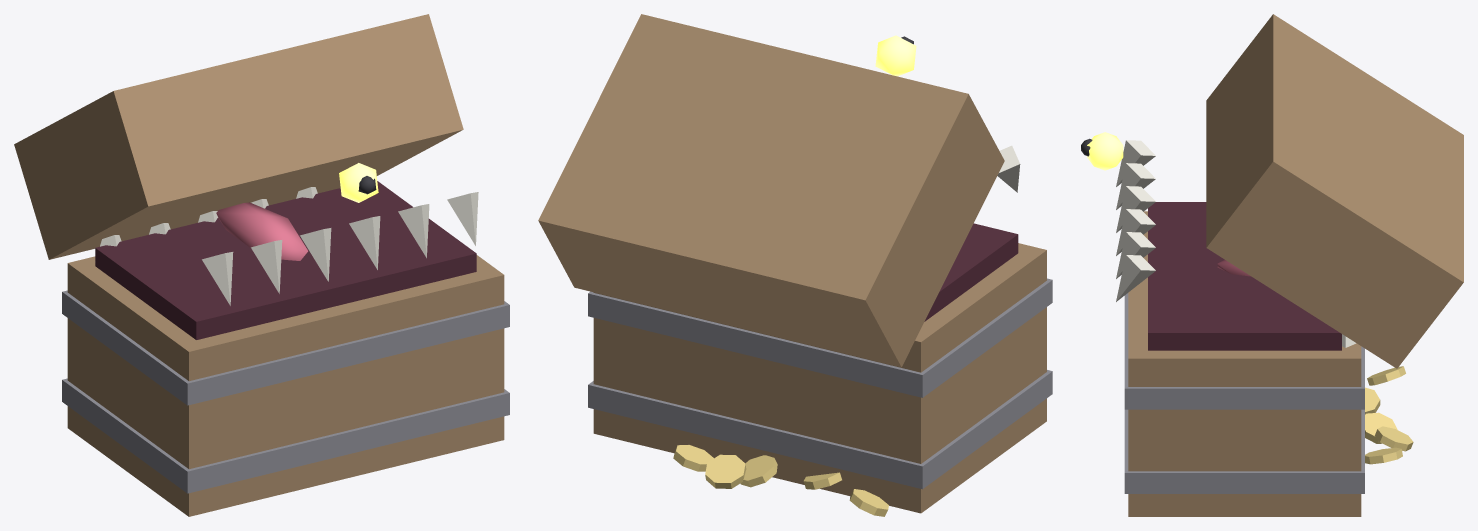
Rendered from SM_mimic_chest.glb.
3 renders of one model, left to right at view 1: azimuth 30°, elevation 25°; view 2: azimuth 150°, elevation 25°; view 3: azimuth 270°, elevation 25°, orthographic. The views are drawn at different scales.
Parts seen in each view (by area): view 1: SM_mimic_chest; view 2: SM_mimic_chest; view 3: SM_mimic_chest.
Part boxes in pixels (box(x1,y1,x2,y2)): SM_mimic_chest: box(14, 14, 509, 516); SM_mimic_chest: box(538, 14, 1052, 516); SM_mimic_chest: box(1081, 14, 1463, 516).
Bounding box in the file's own units: 0.92 × 1.01 × 0.9867.
